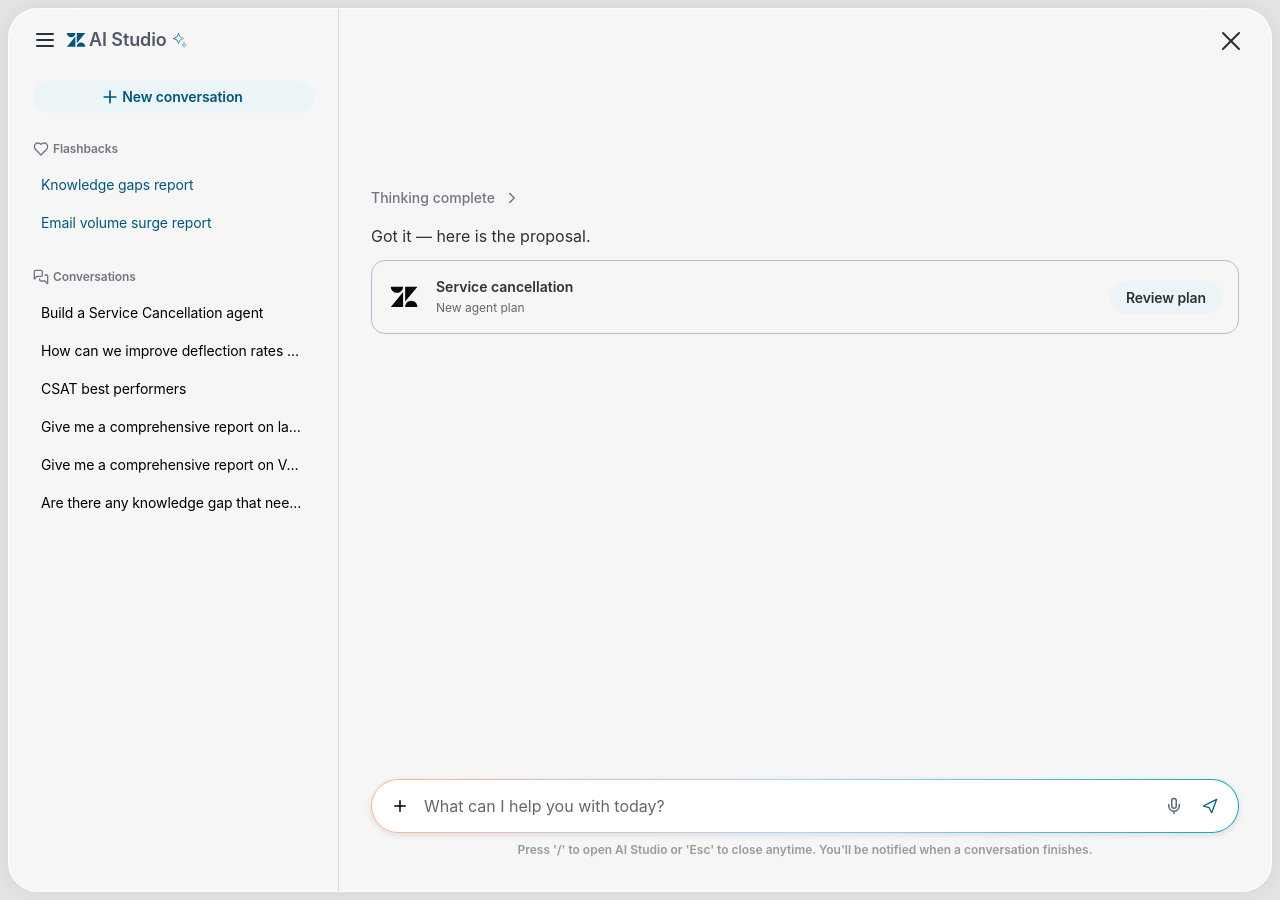
Test: AiStudioConversation — plan flow additions › hides scripted reasoning behind a disclosure and reveals it on click
Expected: the text "Read 30 days of tickets." is not shown
Click the button "Thinking complete" at point(446, 198), box [371,180,521,216]
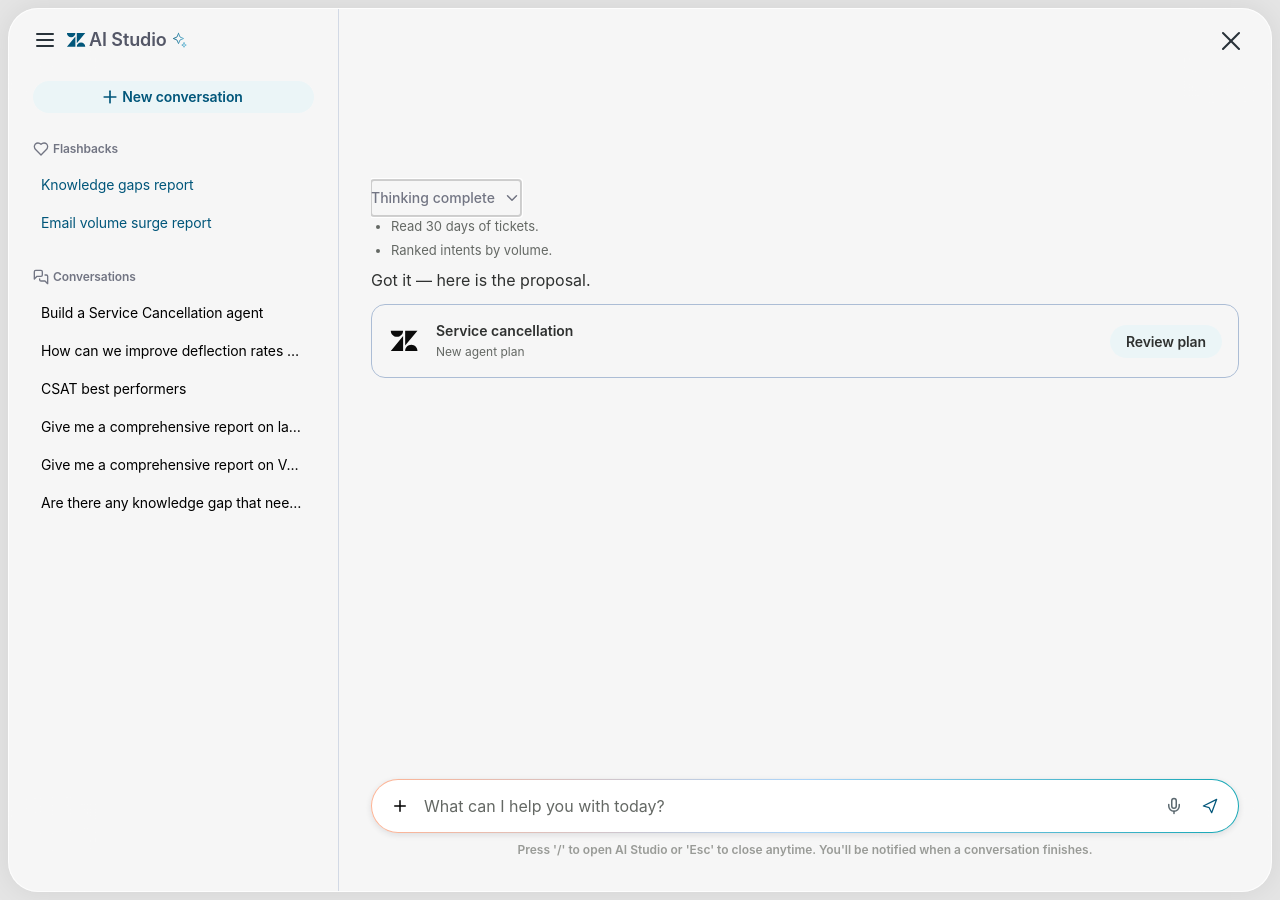
Now the list item "Read 30 days of tickets." is shown, box [391,218,539,234]
Now the list item "Ranked intents by volume." is shown, box [391,242,552,258]
